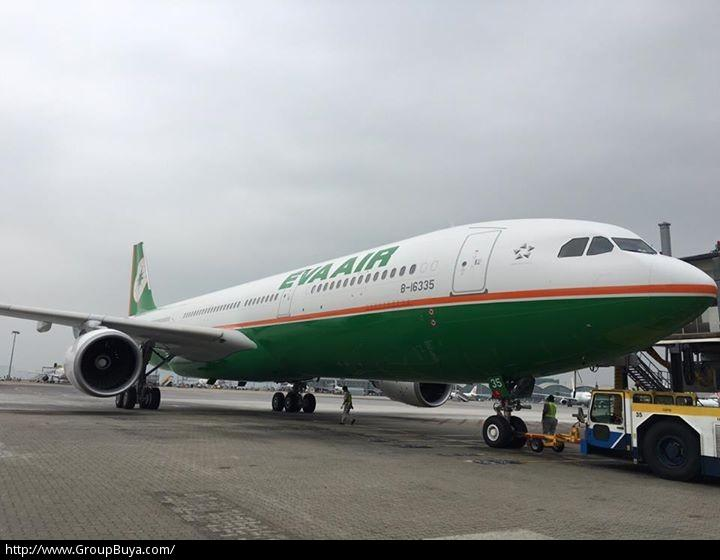airplane: (14, 217, 718, 416)
